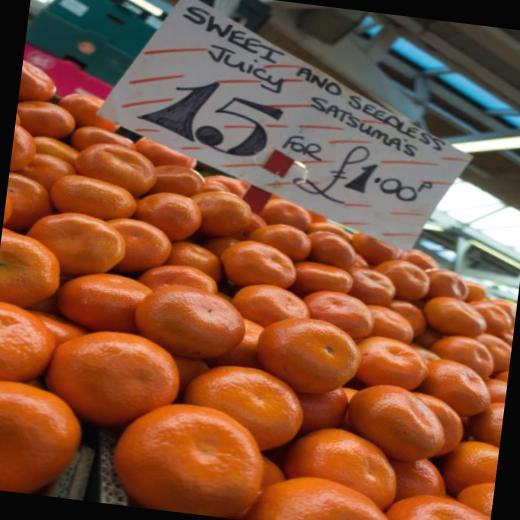Grape: (104, 400, 290, 520), (43, 325, 173, 431), (188, 360, 317, 452), (280, 418, 400, 505), (0, 378, 76, 495), (256, 471, 393, 520), (387, 490, 492, 520)
